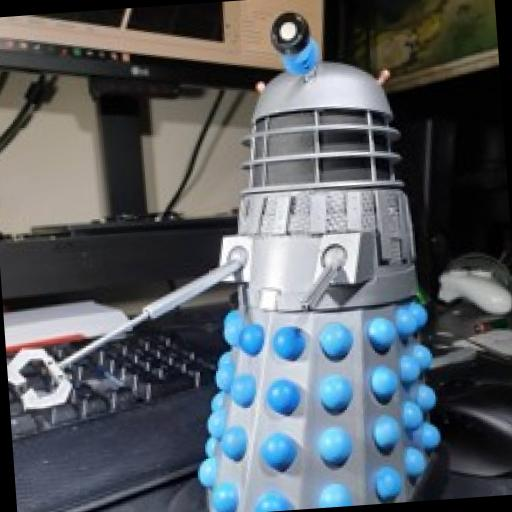dalek: (0, 4, 451, 512)
